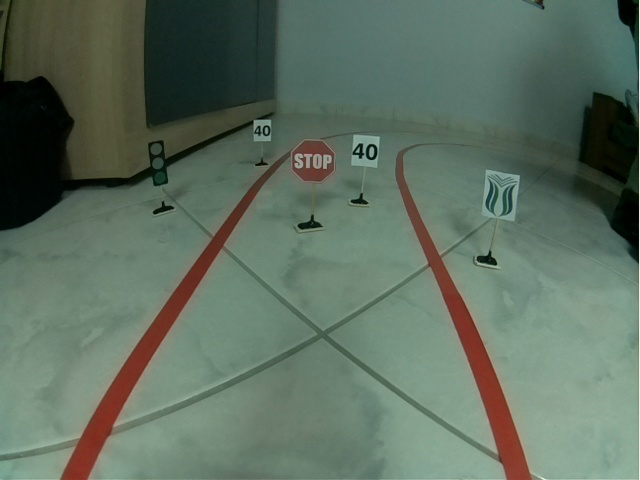Green Traffic Light: (147, 140, 169, 187)
Speed Limit 40: (352, 134, 381, 169), (253, 120, 272, 142)
Stop: (291, 139, 337, 184)
Subu: (483, 169, 520, 222)
